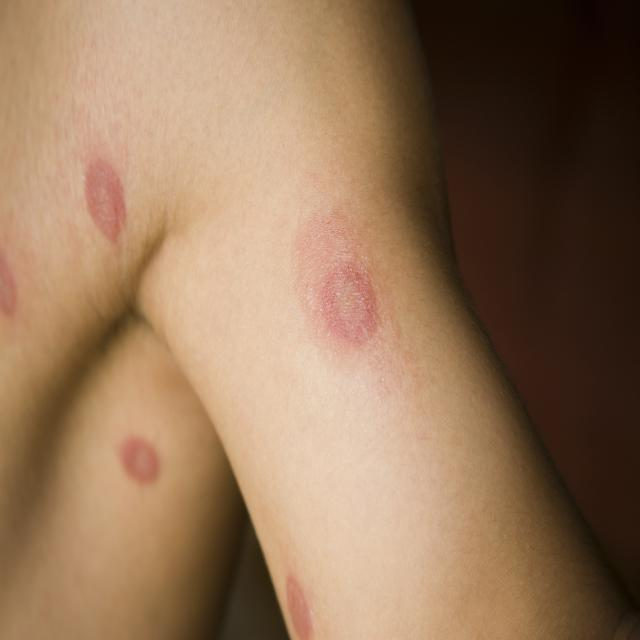Eczema: (281, 218, 396, 362), (82, 156, 139, 246), (116, 431, 168, 499), (277, 567, 315, 640)
